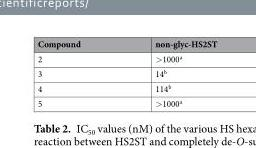table: (36, 37, 216, 108)
table column: (117, 37, 216, 108), (36, 37, 117, 108)
table column header: (36, 37, 216, 50)
table row: (36, 50, 216, 65), (36, 65, 216, 80), (36, 80, 216, 95), (36, 37, 216, 50), (36, 95, 216, 108)
